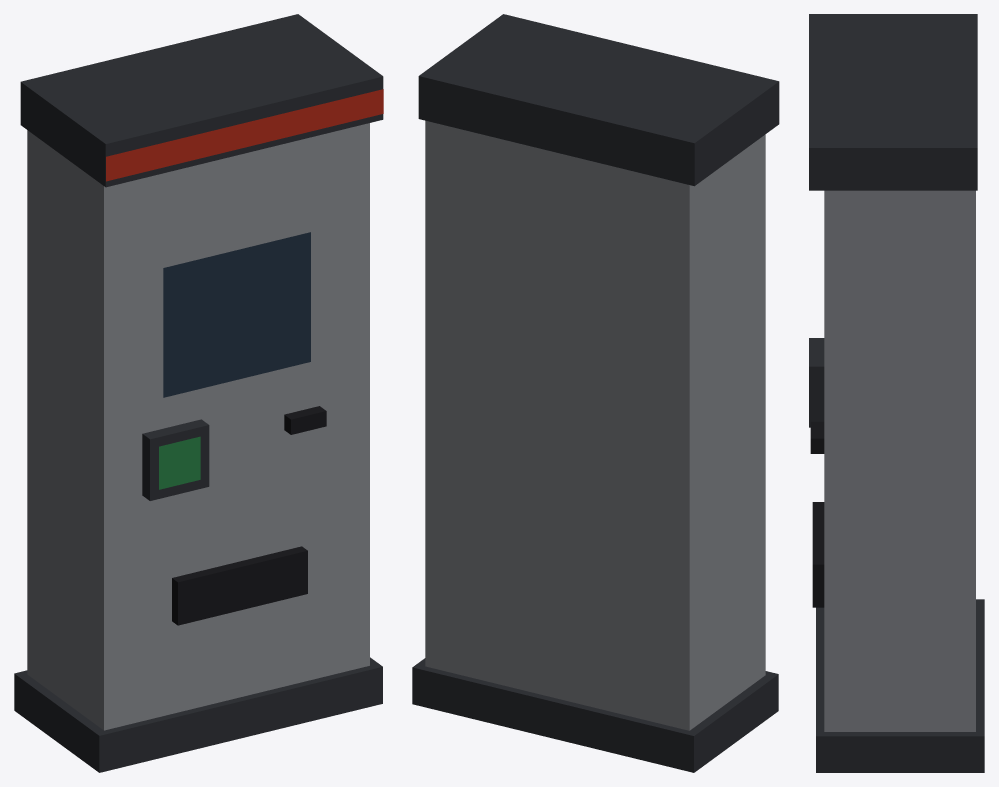
Rendered from prop_nol-machine.9d7859839e8c.glb.
3 views of the same model, side by side, from view 1: azimuth 30°, elevation 25°; view 2: azimuth 150°, elevation 25°; view 3: azimuth 270°, elevation 25° (orthographic).
Visible parts, largest first — view 1: body; view 2: body; view 3: body.
Part boxes in pixels (x1,y1,x2,y2): body: (14, 14, 383, 772); body: (412, 14, 779, 772); body: (809, 14, 984, 772).
Bounding box in the file's own units: 0.96 × 2.04 × 0.522.
